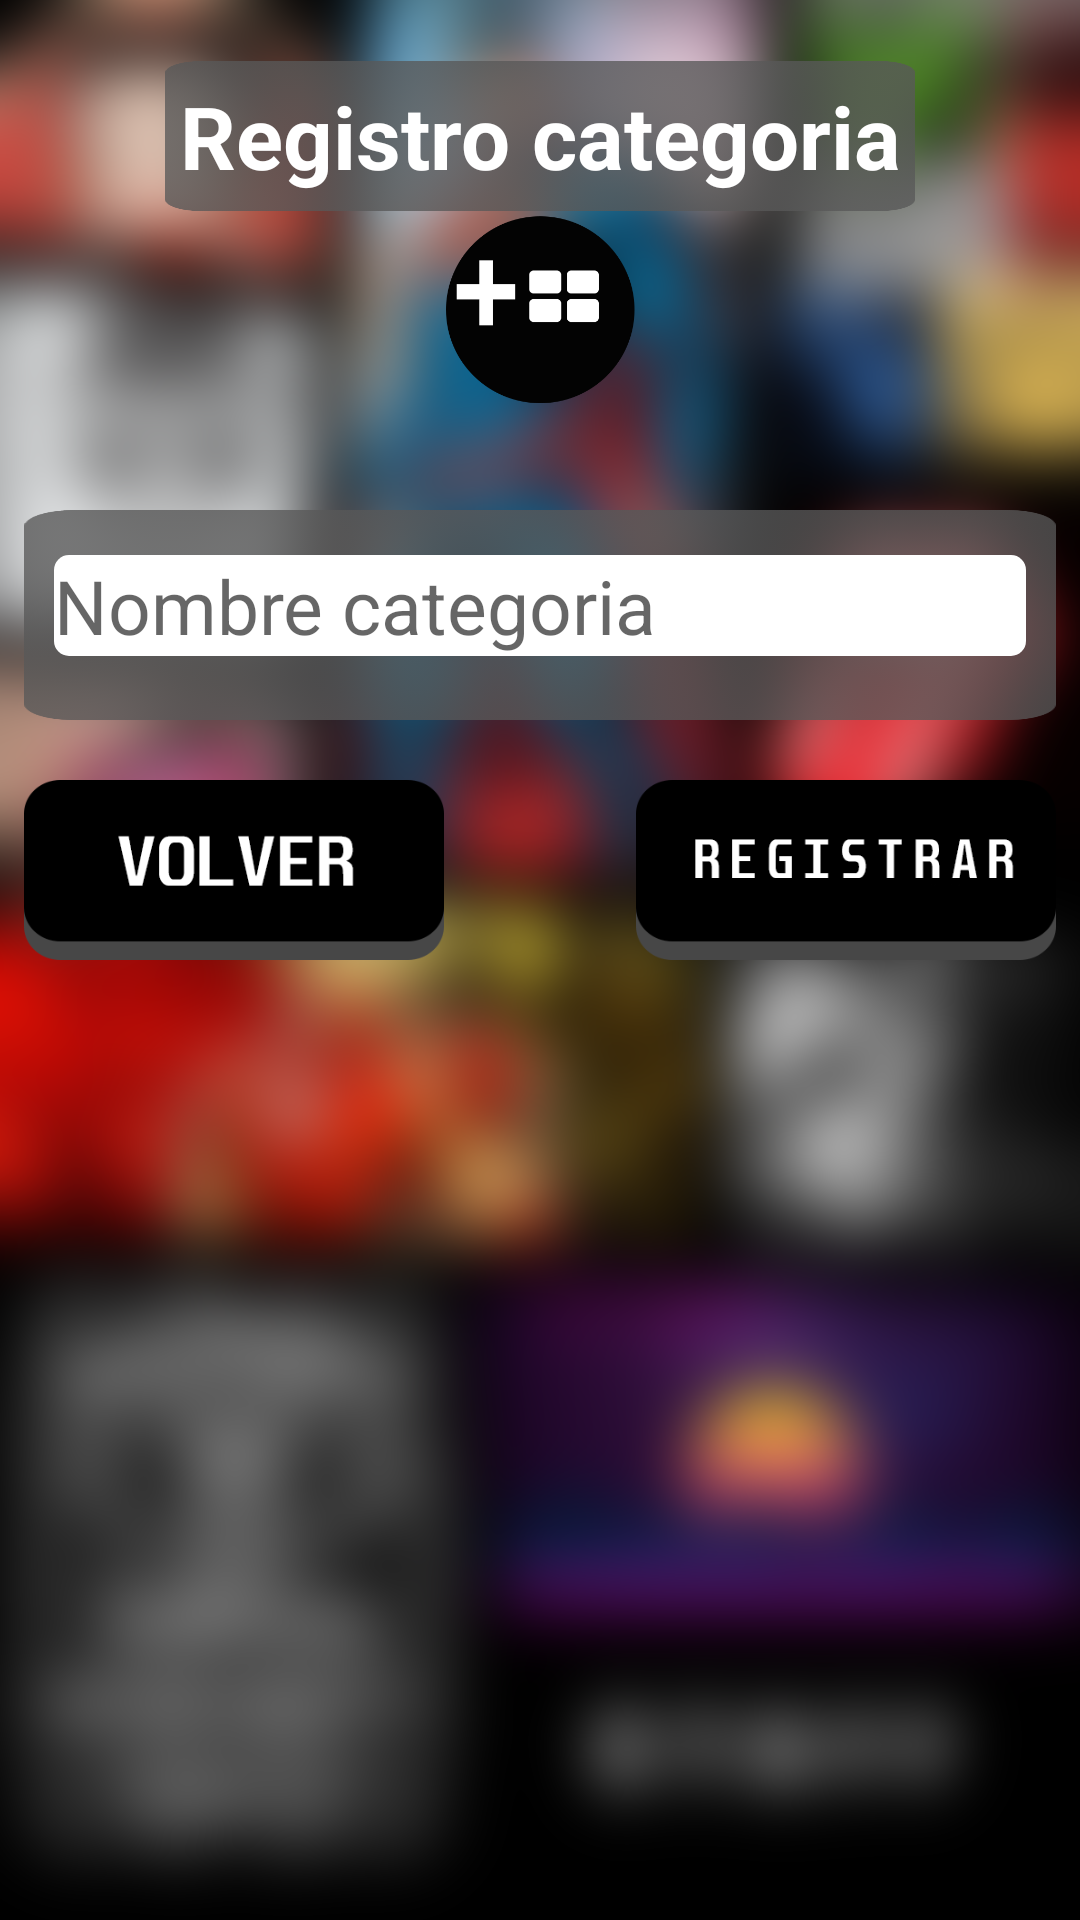

Where to tap for icons on this 1080 x 1920 app screen, as (x=x, y=y):
mascategoria: (x=540, y=315)
